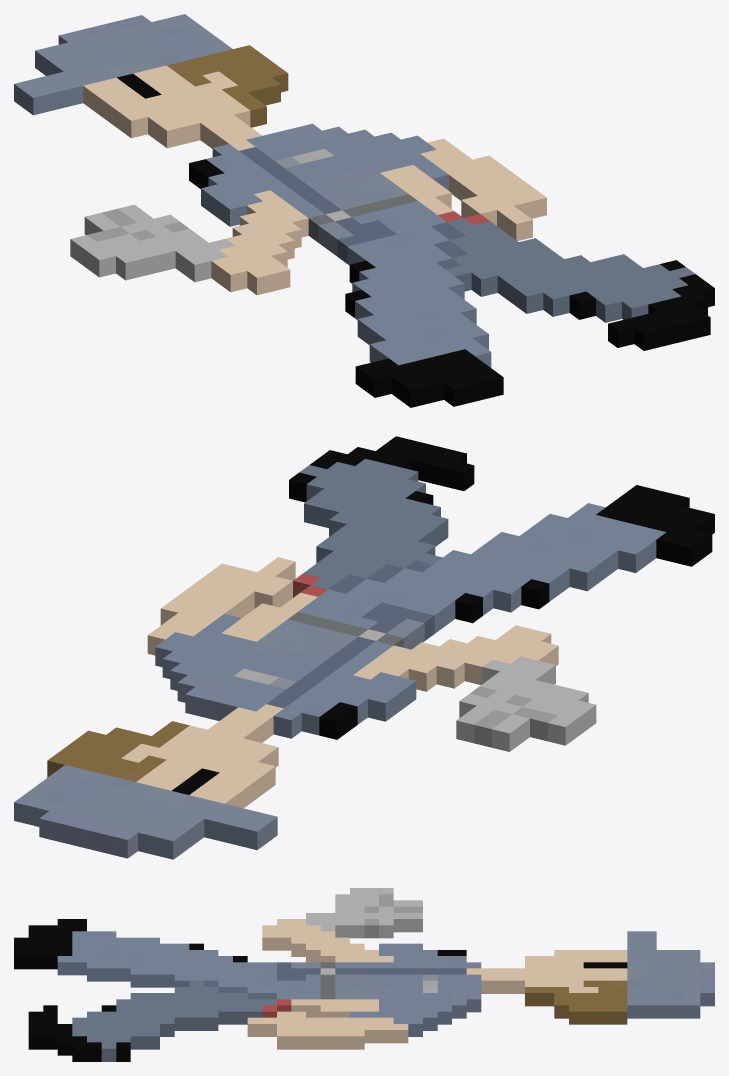
File: Ingenieros.fbx
3 views of the same model, one above another, from view 1: azimuth 30°, elevation 25°; view 2: azimuth 150°, elevation 25°; view 3: azimuth 270°, elevation 25° (orthographic). The views are drawn at different scales.
Visible parts, largest first — view 1: ingenieros1-1.png, ingenieros1-2.png; view 2: ingenieros1-1.png, ingenieros1-2.png; view 3: ingenieros1-1.png, ingenieros1-2.png, ingenieros2-2.png.
Part boxes in pixels (x1,y1,x2,y2): ingenieros1-1.png: (14,14,714,407); ingenieros1-2.png: (370,160,453,214); ingenieros1-1.png: (14,436,714,859); ingenieros1-2.png: (204,592,317,649); ingenieros1-1.png: (14,888,714,1061); ingenieros1-2.png: (291,999,393,1017); ingenieros2-2.png: (262,999,291,1017).
Size of the model in its own units: 2600 by 100 by 4800.
